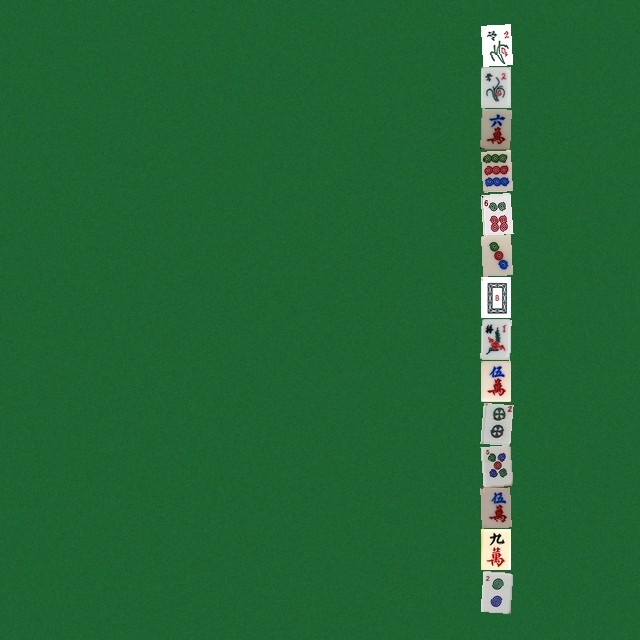tile: (480, 24, 510, 65), (480, 66, 510, 107), (480, 108, 510, 149), (480, 150, 510, 191), (480, 192, 510, 233), (480, 234, 510, 275), (480, 276, 510, 317), (480, 318, 510, 359), (480, 360, 510, 401), (480, 402, 510, 443), (480, 444, 510, 485), (480, 486, 510, 527), (480, 528, 510, 569), (480, 570, 510, 611)
